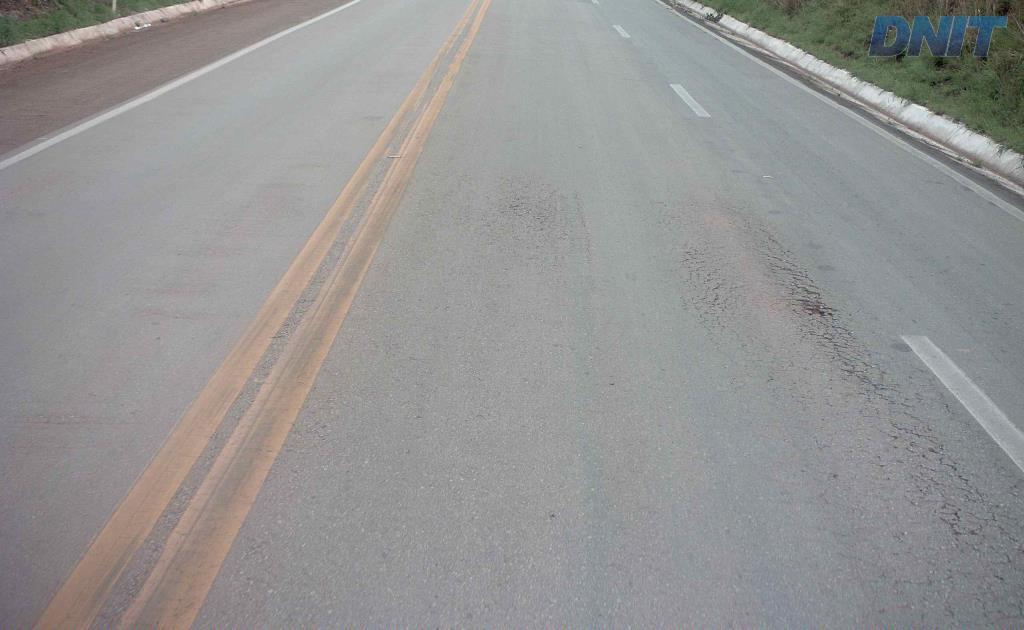crack: (769, 262, 860, 366), (837, 361, 938, 444)
